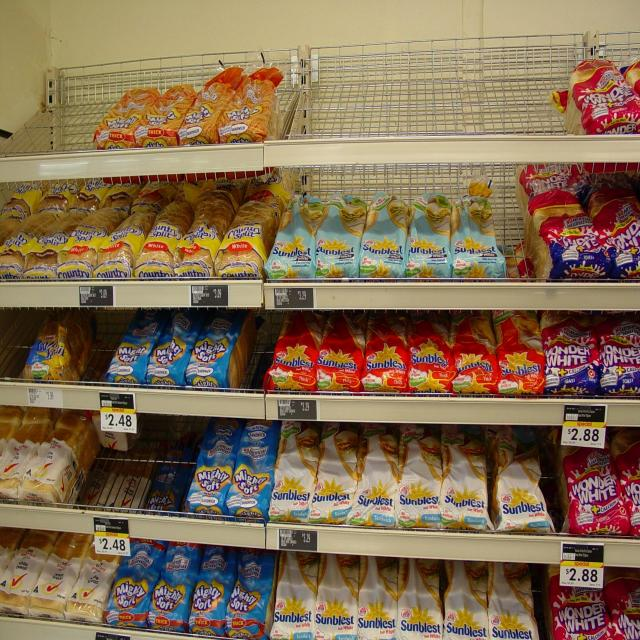empty_space: (305, 54, 552, 138), (96, 454, 186, 506), (47, 75, 97, 147), (495, 184, 533, 277), (3, 319, 25, 382), (91, 316, 112, 380)
